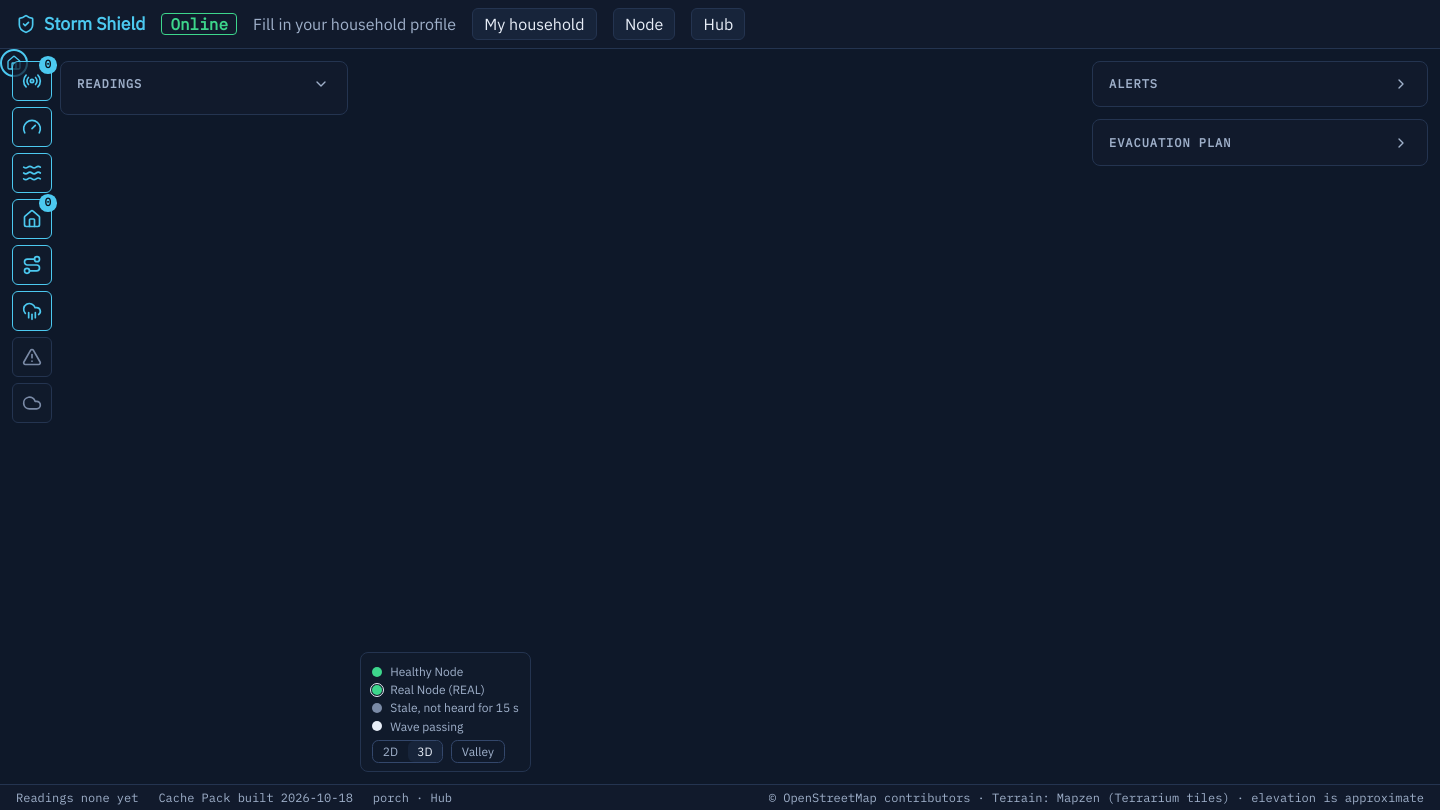
Test case: Weather layers on the map › with no Replay running › reads the forecast, not the replay file
Step 1. Click the button named "Weather" → (32, 403), box x1=12 y1=383 x2=52 y2=423
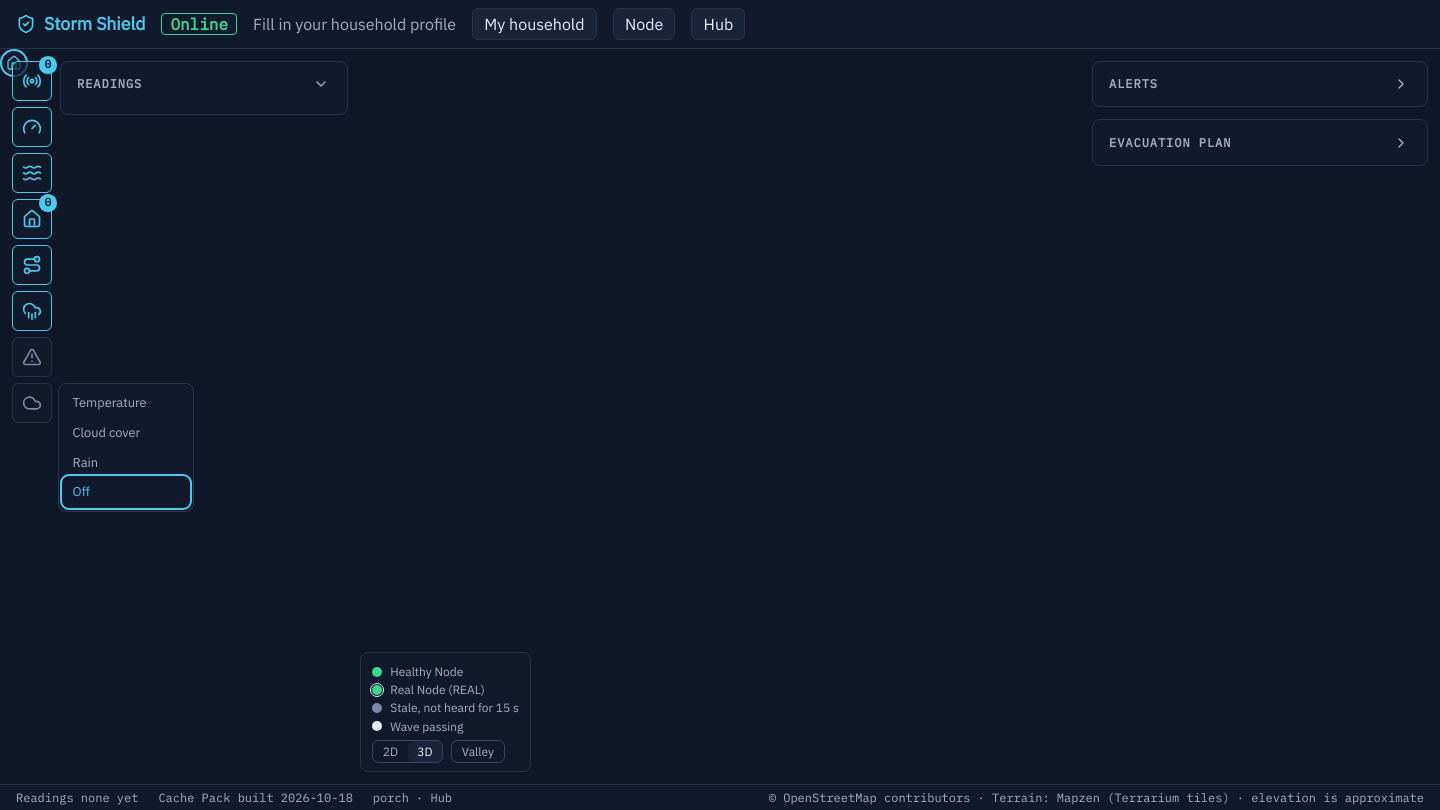
Step 2. Click the radio button labelled "Temperature" → (126, 402), box x1=63 y1=388 x2=189 y2=417
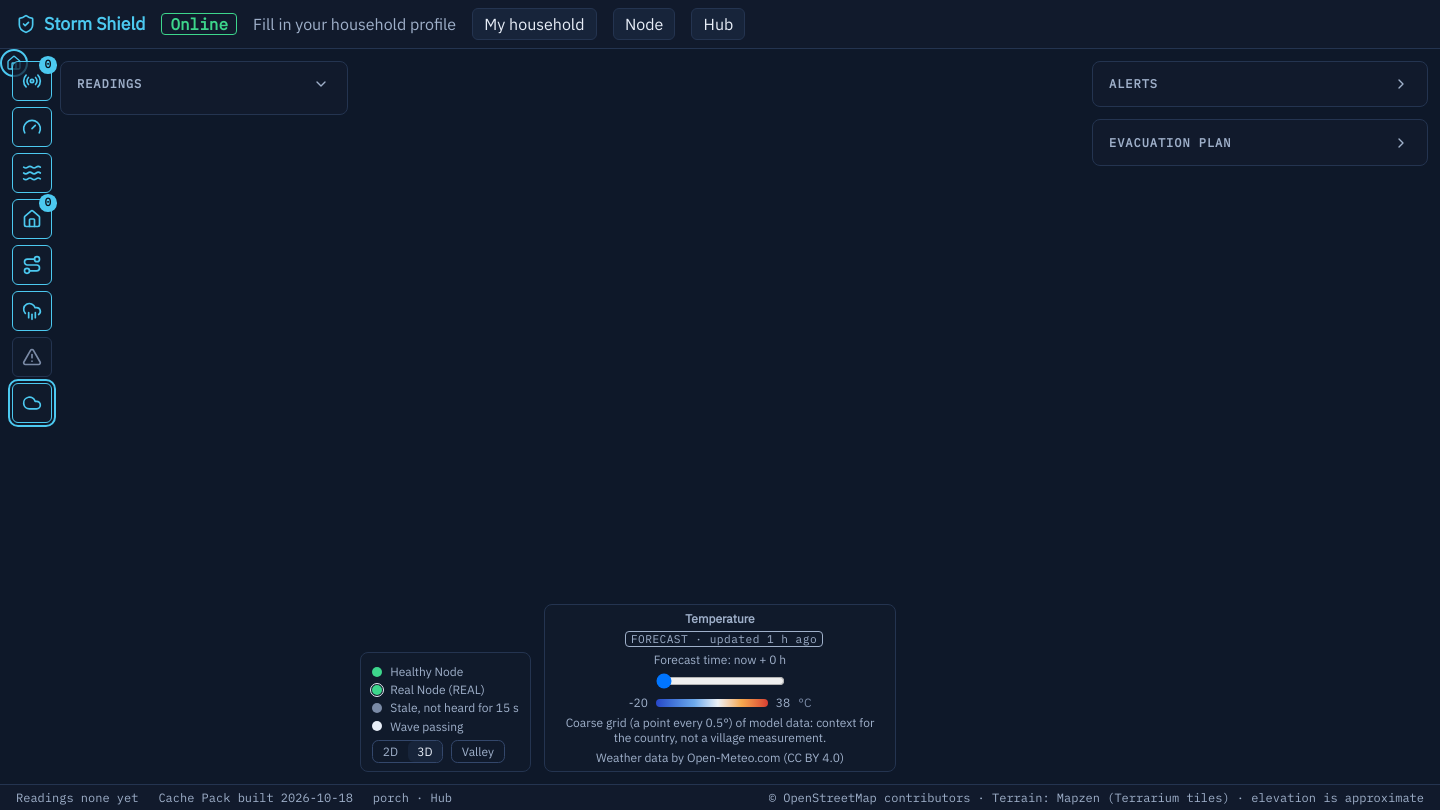
Expected: the text "FORECAST · updated 1 h ago" is shown, x1=625 y1=631 x2=823 y2=647
